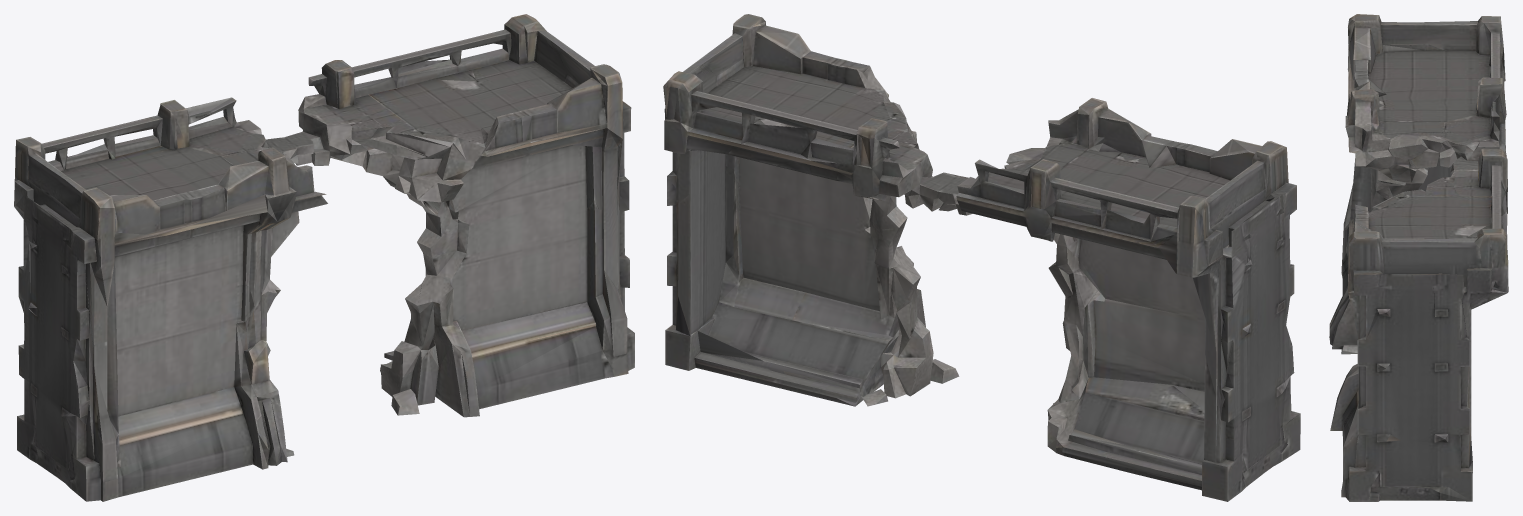
Rendered from imperial_city_wall_straight_breached_lod1.glb.
3 views of the same model, side by side, from view 1: azimuth 30°, elevation 25°; view 2: azimuth 150°, elevation 25°; view 3: azimuth 270°, elevation 25° (orthographic). The views are drawn at different scales.
Visible parts, largest first — view 1: mesh_node; view 2: mesh_node; view 3: mesh_node.
Boxes of the visible parts, x1,y1,x2,y2 form: mesh_node: (14,14,634,501); mesh_node: (663,14,1300,501); mesh_node: (1329,14,1508,501).
Size of the model in its own units: 11.89 by 6.05 by 3.79.
Materials: 1 (1 with a texture image).
